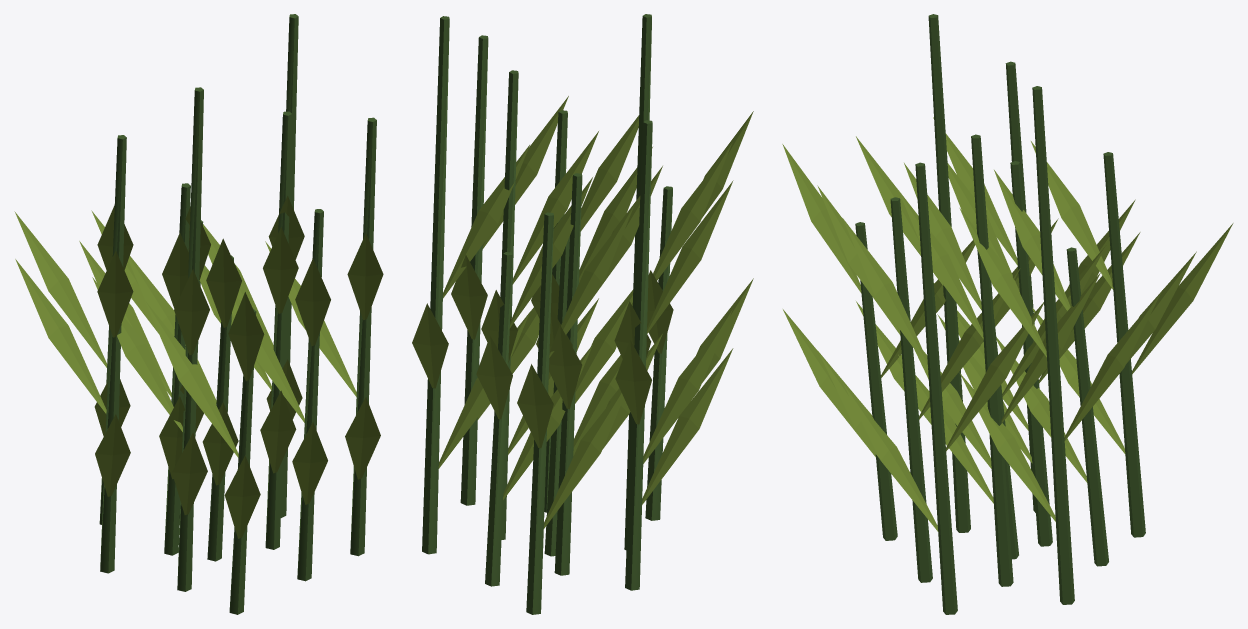
Rendered from 95_river_reeds.fbx.
3 views of the same model, side by side, from view 1: azimuth 30°, elevation 25°; view 2: azimuth 150°, elevation 25°; view 3: azimuth 270°, elevation 25° (orthographic). The views are drawn at different scales.
Visible parts, largest first — view 1: 95_river_reeds; view 2: 95_river_reeds; view 3: 95_river_reeds.
Boxes of the visible parts, <box> form: 95_river_reeds: <box>14,14,383,614</box>; 95_river_reeds: <box>412,14,753,614</box>; 95_river_reeds: <box>782,14,1233,614</box>.
Size of the model in its own units: 0.6864 by 1.31 by 1.04.
Materials: 1 (1 with a texture image).
